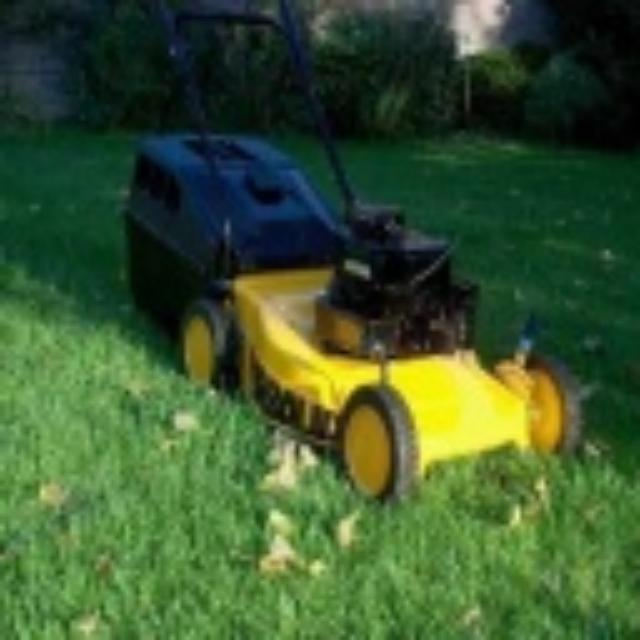Rotary-Mower: (110, 0, 590, 504)
